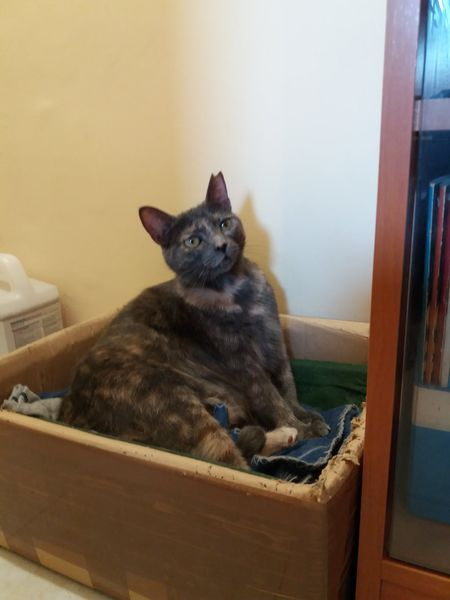cat: (47, 154, 341, 486)
